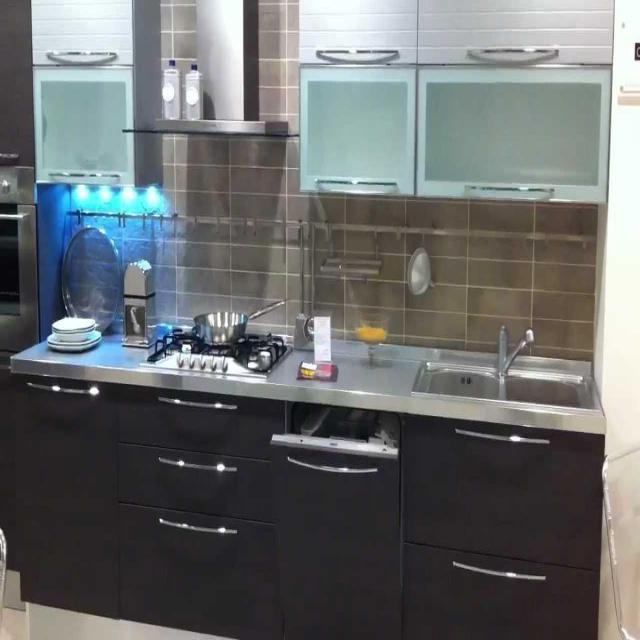dishwasher: (266, 401, 404, 639)
